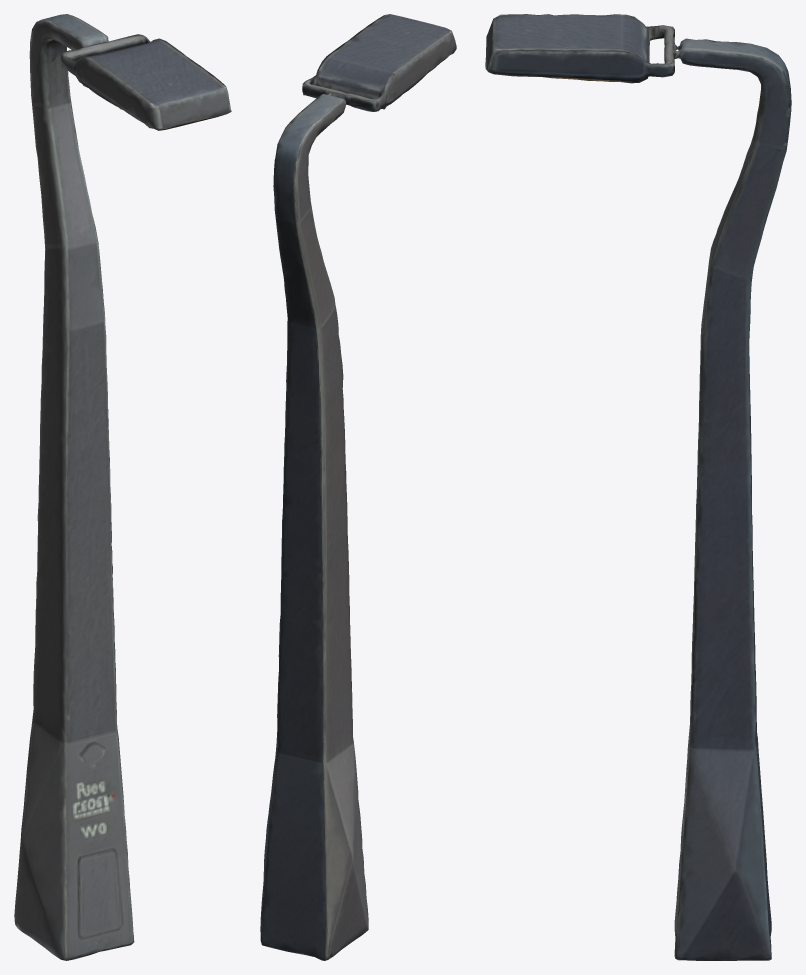
The model's file is DDP_가로등.glb.
3 views of the same model, side by side, from view 1: azimuth 30°, elevation 25°; view 2: azimuth 150°, elevation 25°; view 3: azimuth 270°, elevation 25° (orthographic). The views are drawn at different scales.
Parts seen in each view (by area): view 1: texture_mapping; view 2: texture_mapping; view 3: texture_mapping.
Part boxes in pixels (<box>): texture_mapping: <box>14,14,231,960</box>; texture_mapping: <box>260,14,456,960</box>; texture_mapping: <box>485,14,791,960</box>.
Size of the model in its own units: 0.1081 by 1 by 0.305.
1 material, 1 textured.
